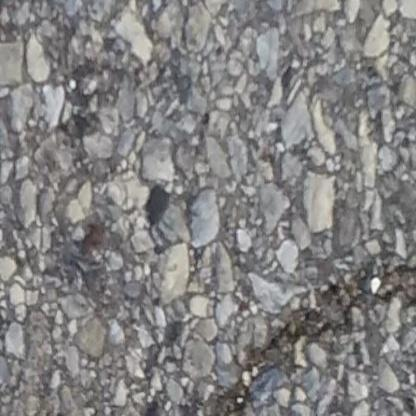Cracks: (193, 252, 416, 416)
